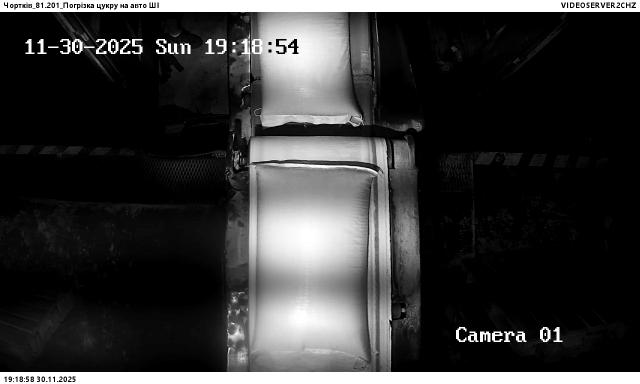bag: (253, 163, 379, 372), (257, 13, 364, 129)
